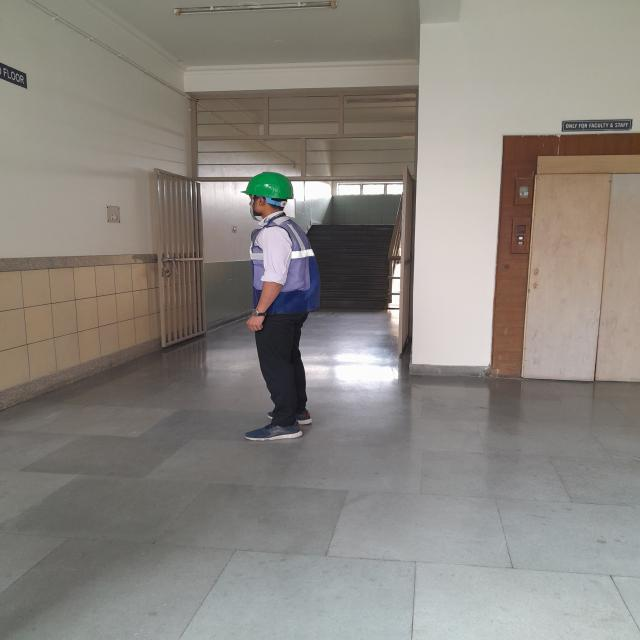safe: (240, 172, 321, 440)
